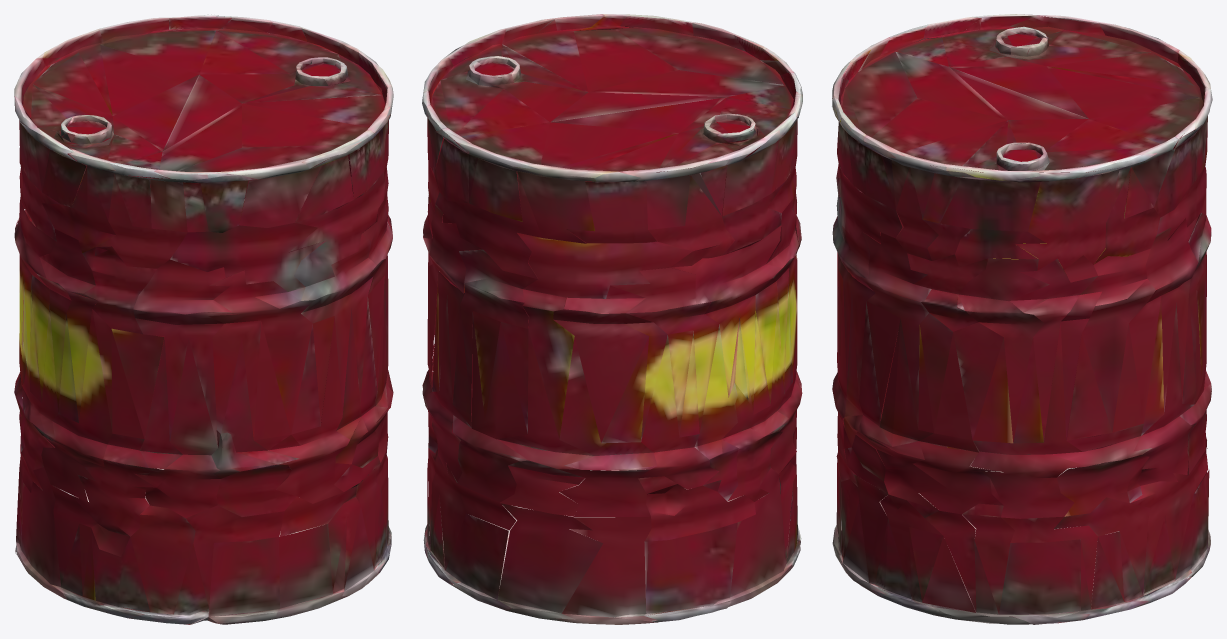
File: barrel_red.glb
3 renders of one model, left to right at view 1: azimuth 30°, elevation 25°; view 2: azimuth 150°, elevation 25°; view 3: azimuth 270°, elevation 25°, orthographic.
Visible parts, largest first — view 1: Mesh_0; view 2: Mesh_0; view 3: Mesh_0.
Boxes of the visible parts, <box> form: Mesh_0: <box>14,14,393,624</box>; Mesh_0: <box>422,14,802,624</box>; Mesh_0: <box>832,14,1212,624</box>.
Bounding box in the file's own units: 1.45 × 1.9 × 1.45.
1 material, 1 textured.
